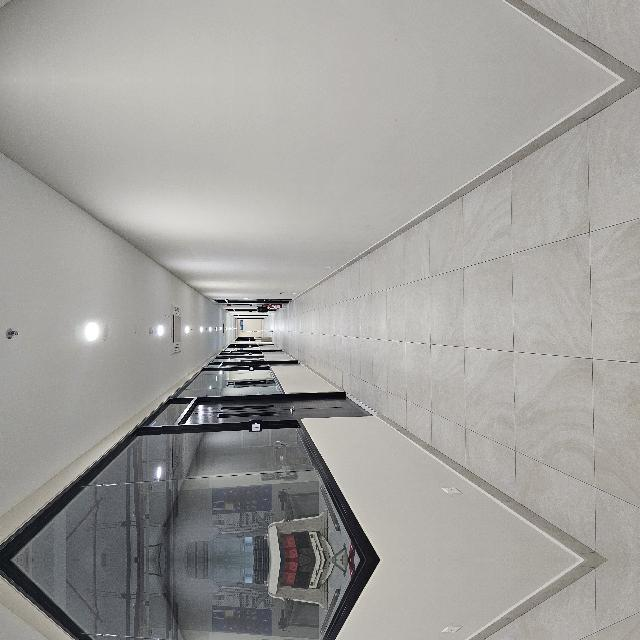door: (131, 257, 167, 455)
